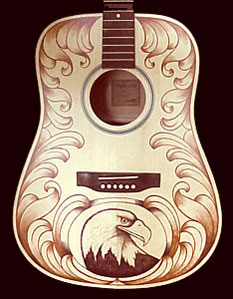guitar: (10, 1, 223, 288)
